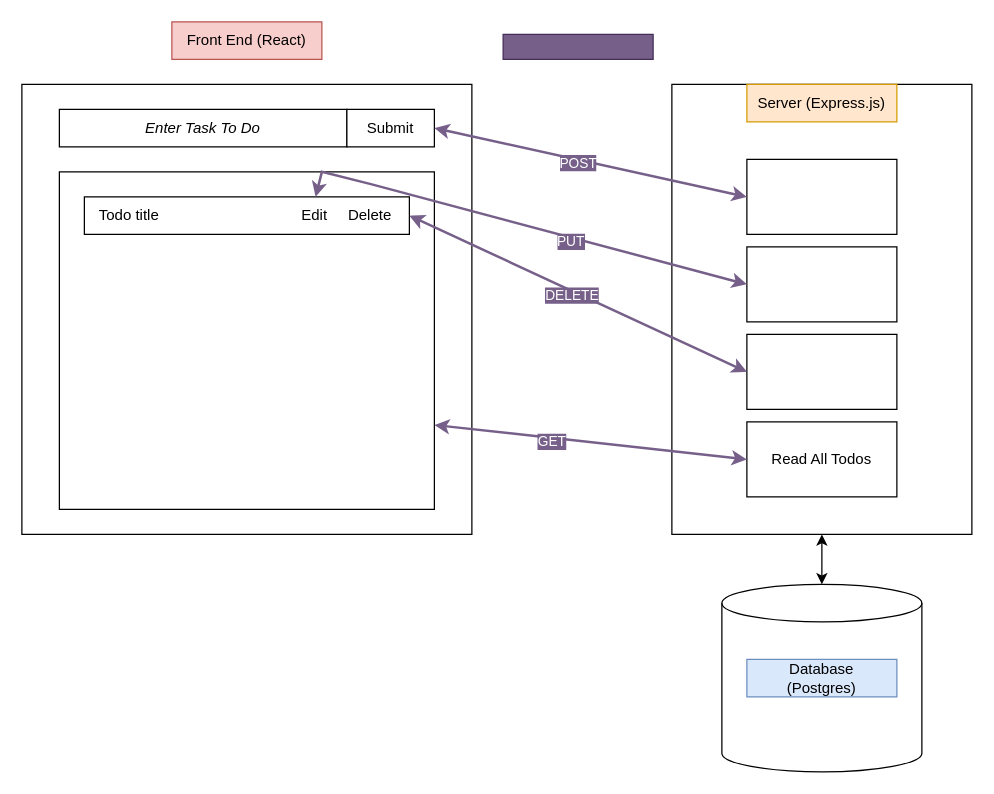
This 994x794 diagram has some shape labels left out. Each missing label, with the box of its shape:
Create Todo: (746, 158, 897, 234)
Delete Todo: (746, 333, 897, 409)
HTTP: (502, 33, 653, 59)
UpdateTodo: (746, 246, 897, 322)
